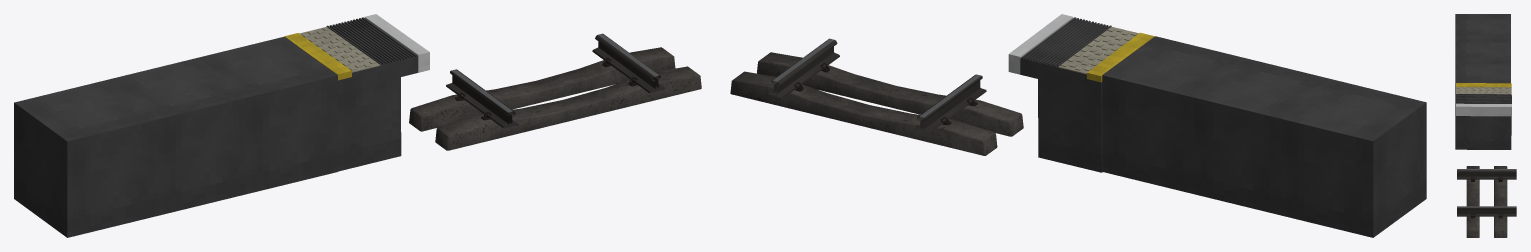
File: track.obj
The picture shows the model from 3 angles, left to right: view 1: azimuth 30°, elevation 25°; view 2: azimuth 150°, elevation 25°; view 3: azimuth 270°, elevation 25°; orthographic projection. The views are drawn at different scales.
Parts seen in each view (by area): view 1: cube.054, cube.052, cube.053, Full_LOD0_LOD0.007, Full_LOD0_LOD0.002, cube.002, Full_LOD0_LOD0, cube.001, cube.005, cube, cube.004; view 2: cube.054, cube.052, cube.053, Full_LOD0_LOD0.002, Full_LOD0_LOD0.007, cube.002, Full_LOD0_LOD0, cube.001, cube.005, cube, cube.004; view 3: cube.002, cube.052, cube.054, cube.053, Full_LOD0_LOD0, cube, Full_LOD0_LOD0.002, Full_LOD0_LOD0.007, cube.005, cube.004, cube.043, cube.040 (+11 smaller).
Part boxes in pixels (x1=…): cube.054: x1=14, y1=80, x2=159, y2=237; cube.052: x1=193, y1=36, x2=337, y2=194; cube.053: x1=106, y1=58, x2=250, y2=215; Full_LOD0_LOD0.007: x1=435, y1=66, x2=701, y2=150; Full_LOD0_LOD0.002: x1=409, y1=47, x2=675, y2=131; cube.002: x1=338, y1=77, x2=401, y2=171; Full_LOD0_LOD0: x1=446, y1=33, x2=664, y2=128; cube.001: x1=338, y1=61, x2=418, y2=92; cube.005: x1=299, y1=27, x2=380, y2=72; cube: x1=364, y1=14, x2=429, y2=72; cube.004: x1=284, y1=33, x2=351, y2=80; cube.054: x1=1281, y1=80, x2=1426, y2=237; cube.052: x1=1102, y1=36, x2=1247, y2=193; cube.053: x1=1189, y1=59, x2=1334, y2=215; Full_LOD0_LOD0.002: x1=730, y1=71, x2=997, y2=155; Full_LOD0_LOD0.007: x1=757, y1=52, x2=1023, y2=136; cube.002: x1=1038, y1=79, x2=1102, y2=172; Full_LOD0_LOD0: x1=767, y1=38, x2=986, y2=133; cube.001: x1=1020, y1=63, x2=1102, y2=94; cube.005: x1=1058, y1=26, x2=1138, y2=74; cube: x1=1008, y1=14, x2=1073, y2=74; cube.004: x1=1087, y1=32, x2=1154, y2=82; cube.002: x1=1455, y1=100, x2=1511, y2=149; cube.052: x1=1455, y1=59, x2=1510, y2=118; cube.054: x1=1455, y1=14, x2=1510, y2=37; cube.053: x1=1455, y1=37, x2=1510, y2=60; Full_LOD0_LOD0: x1=1457, y1=169, x2=1516, y2=216; cube: x1=1456, y1=103, x2=1511, y2=116; Full_LOD0_LOD0.002: x1=1494, y1=166, x2=1507, y2=237; Full_LOD0_LOD0.007: x1=1466, y1=166, x2=1479, y2=237; cube.005: x1=1456, y1=87, x2=1511, y2=94; cube.004: x1=1456, y1=83, x2=1511, y2=87; cube.043: x1=1456, y1=99, x2=1511, y2=100; cube.040: x1=1456, y1=102, x2=1511, y2=103.
Size of the model in its own units: 6.65 by 1.12 by 1.05.
